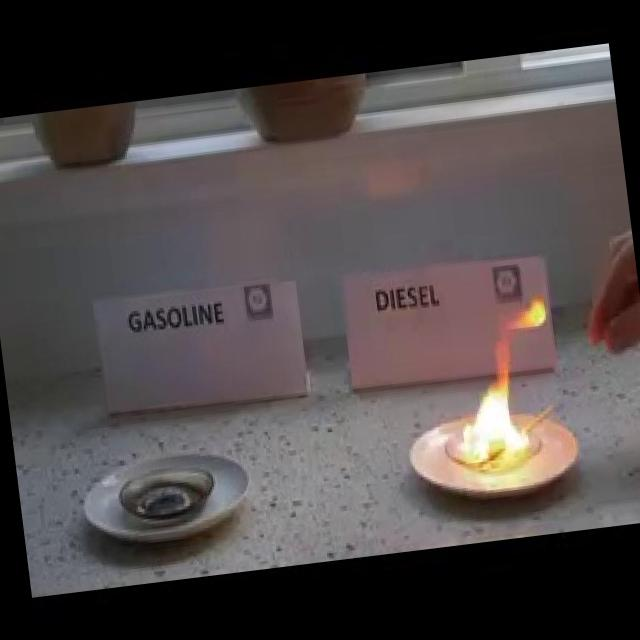Fire: (436, 296, 564, 472)
